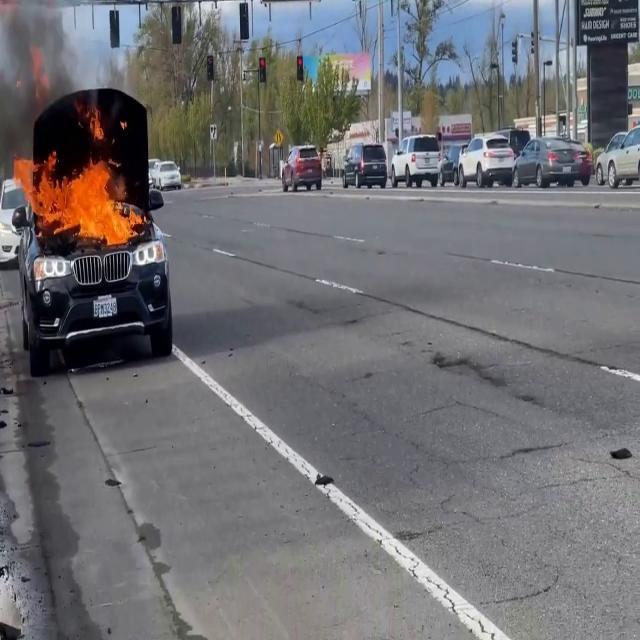Fire: (12, 145, 148, 254)
Smoke: (0, 2, 81, 162)
